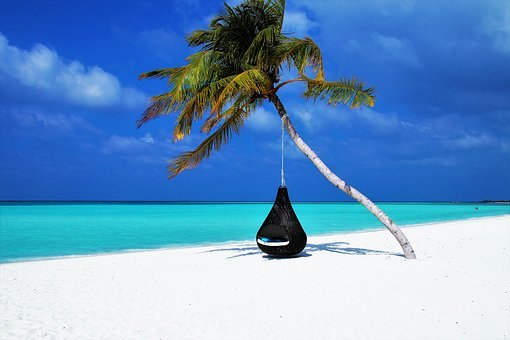beach: (6, 202, 506, 335)
sky: (6, 4, 510, 202)
tree: (177, 15, 429, 260)
